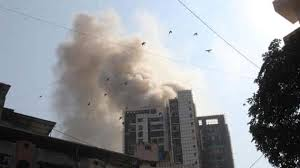smoke: (58, 17, 180, 107), (59, 109, 124, 154)
